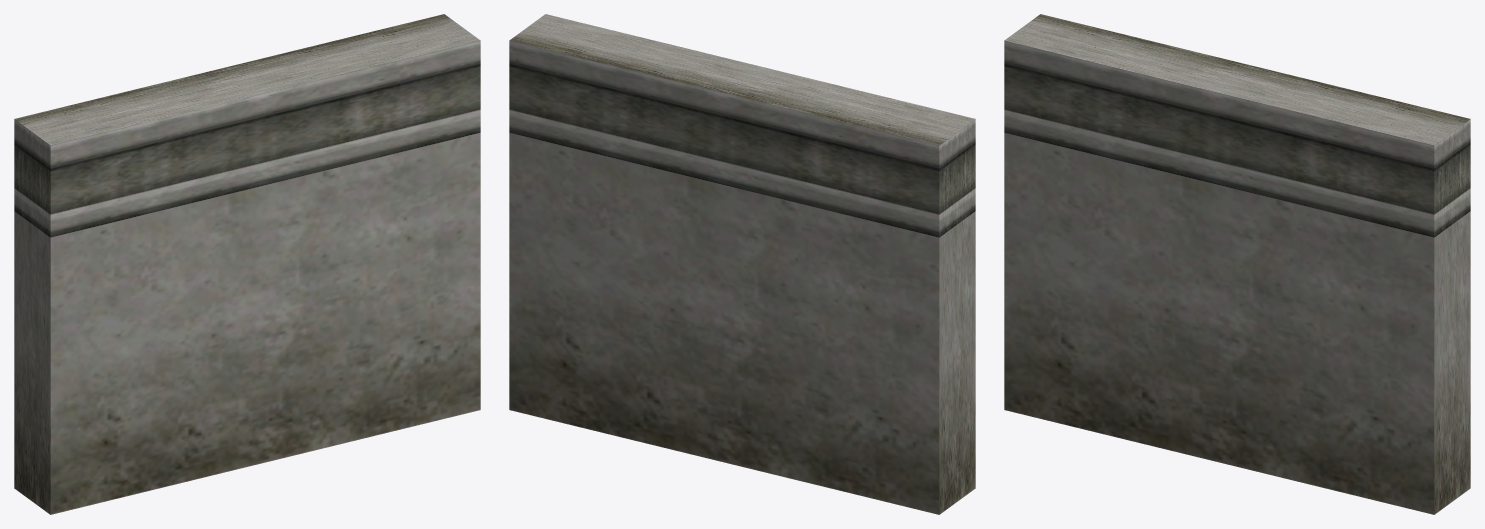
The model's file is SD_MAINHALL_02.fbx.
3 renders of one model, left to right at view 1: azimuth 30°, elevation 25°; view 2: azimuth 150°, elevation 25°; view 3: azimuth 330°, elevation 25°, orthographic.
Parts seen in each view (by area): view 1: SD_MAINHALL_02; view 2: SD_MAINHALL_02; view 3: SD_MAINHALL_02.
Part boxes in pixels (box(x1,y1,x2,y2)): SD_MAINHALL_02: box(14, 14, 480, 514); SD_MAINHALL_02: box(509, 14, 975, 514); SD_MAINHALL_02: box(1004, 14, 1470, 514).
Size of the model in its own units: 29247 by 24000 by 4280.
2 materials, 2 textured.
